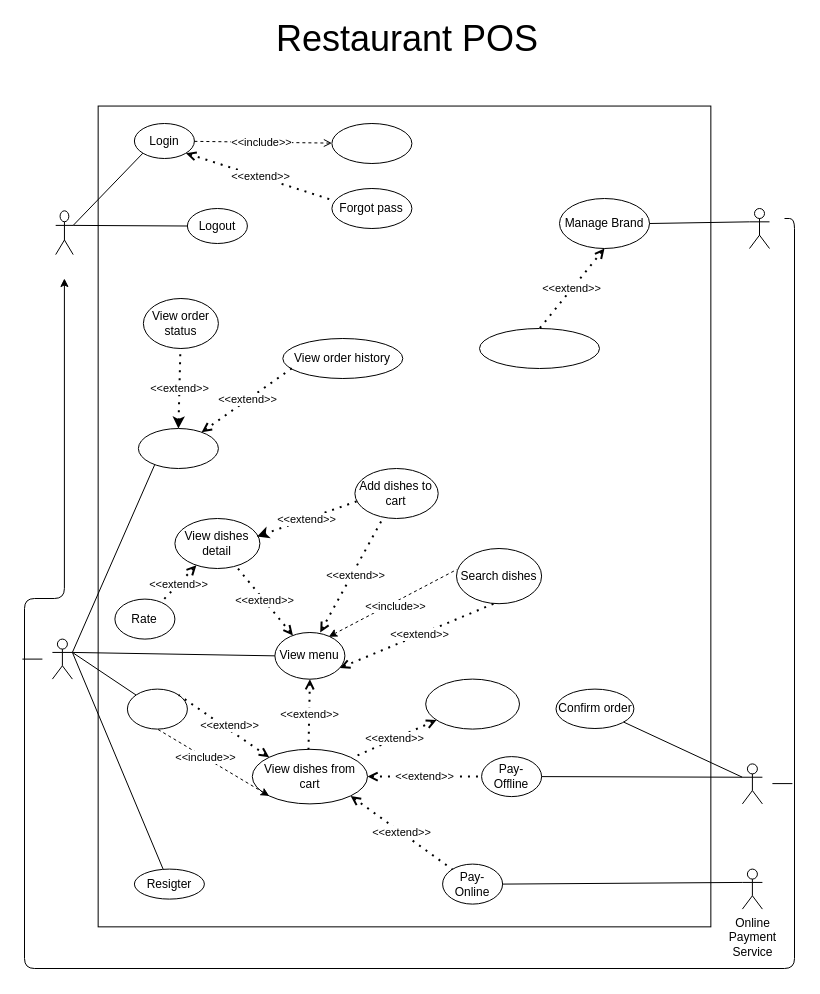
The diagram is 820 pixels wide and 994 high, and some of its shapes have lost their labels. Each missing label, with the centre of its shape:
"Checkout" belongs at pixel 156 708.
"Clerk" belongs at pixel 751 783.
"Customer" belongs at pixel 61 658.
"Manage brand menu" belongs at pixel 539 348.
"Manage Profile" belongs at pixel 177 448.
"System manager" belongs at pixel 759 228.
"Update dishes from cart" belongs at pixel 472 703.
"User" belongs at pixel 64 232.
"Verified pass" belongs at pixel 371 143.
